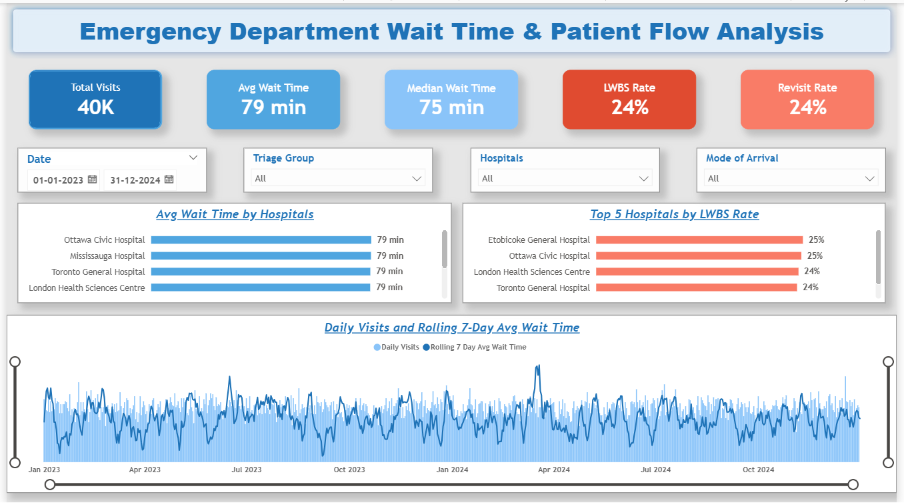

The page's visual inventory and layout, read from the dashboard file:
{"tool":"powerbi","page":{"name":"Executive Overview","canvas":[1280,720],"ordinal":0},"visuals":[{"type":"slicer","title":"Date","fields":{"Values":["Calendar.Date"]},"box":[16,208,272,64],"z":0},{"type":"slicer","fields":{"Values":["er_visits.Triage Group"]},"box":[341.3,208,272,64],"z":1000},{"type":"slicer","fields":{"Values":["hospitals.hospital_name"]},"box":[666.7,208,272,64],"z":2000},{"type":"cardVisual","fields":{"Data":["Measures Table.Total Visits"]},"box":[32,96,192,85],"z":3000},{"type":"cardVisual","fields":{"Data":["Measures Table.Avg Wait Time"]},"box":[288,96,192,85],"z":4000},{"type":"cardVisual","fields":{"Data":["Measures Table.Median Wait Time"]},"box":[544,96,192,85],"z":5000},{"type":"cardVisual","fields":{"Data":["Measures Table.LWBS Rate %"]},"box":[800,96,192,85],"z":6000},{"type":"cardVisual","fields":{"Data":["Measures Table.Revisit 72h Rate %"]},"box":[1056,96,192,85],"z":7000},{"type":"clusteredBarChart","title":"Avg Wait Time by Hospitals","fields":{"Category":["hospitals.hospital_name"],"Y":["Measures Table 1.Avg Wait Time"]},"box":[16,288,624,144],"z":8000},{"type":"lineClusteredColumnComboChart","title":"Daily Visits and Rolling 7-Day Avg Wait Time","fields":{"Y":["Measures Table.Daily Visits"],"Y2":["Measures Table.Rolling 7 Day Avg Wait"],"Category":["Calendar.Date"]},"box":[5,448,1270,256],"z":9000},{"type":"clusteredBarChart","title":"Top 5 Hospitals by LWBS Rate","fields":{"Category":["hospitals.hospital_name"],"Y":["Measures Table.LWBS Rate %"]},"box":[656,288,608,144],"z":10000},{"type":"shape","box":[0,0,1280,80],"z":11000},{"type":"actionButton","box":[0,0,100,40],"z":12000},{"type":"slicer","fields":{"Values":["er_visits.mode_of_arrival"]},"box":[992,208,272,64],"z":13000}]}

Visuals, with their boxes in screenshot pixels (x1, y1, x2, y2), scaled from the page's 1280x720 canvas onto the 905x503 screenshot:
"Date" slicer: [11,145,204,190]
slicer - er_visits.Triage Group: [241,145,434,190]
slicer - hospitals.hospital_name: [471,145,664,190]
cardVisual - Measures Table.Total Visits: [23,67,158,126]
cardVisual - Measures Table.Avg Wait Time: [204,67,339,126]
cardVisual - Measures Table.Median Wait Time: [385,67,520,126]
cardVisual - Measures Table.LWBS Rate %: [566,67,701,126]
cardVisual - Measures Table.Revisit 72h Rate %: [747,67,882,126]
"Avg Wait Time by Hospitals" clusteredBarChart: [11,201,452,302]
"Daily Visits and Rolling 7-Day Avg Wait Time" lineClusteredColumnComboChart: [4,313,901,492]
"Top 5 Hospitals by LWBS Rate" clusteredBarChart: [464,201,894,302]
shape: [0,0,904,56]
actionButton: [0,0,71,28]
slicer - er_visits.mode_of_arrival: [701,145,894,190]
